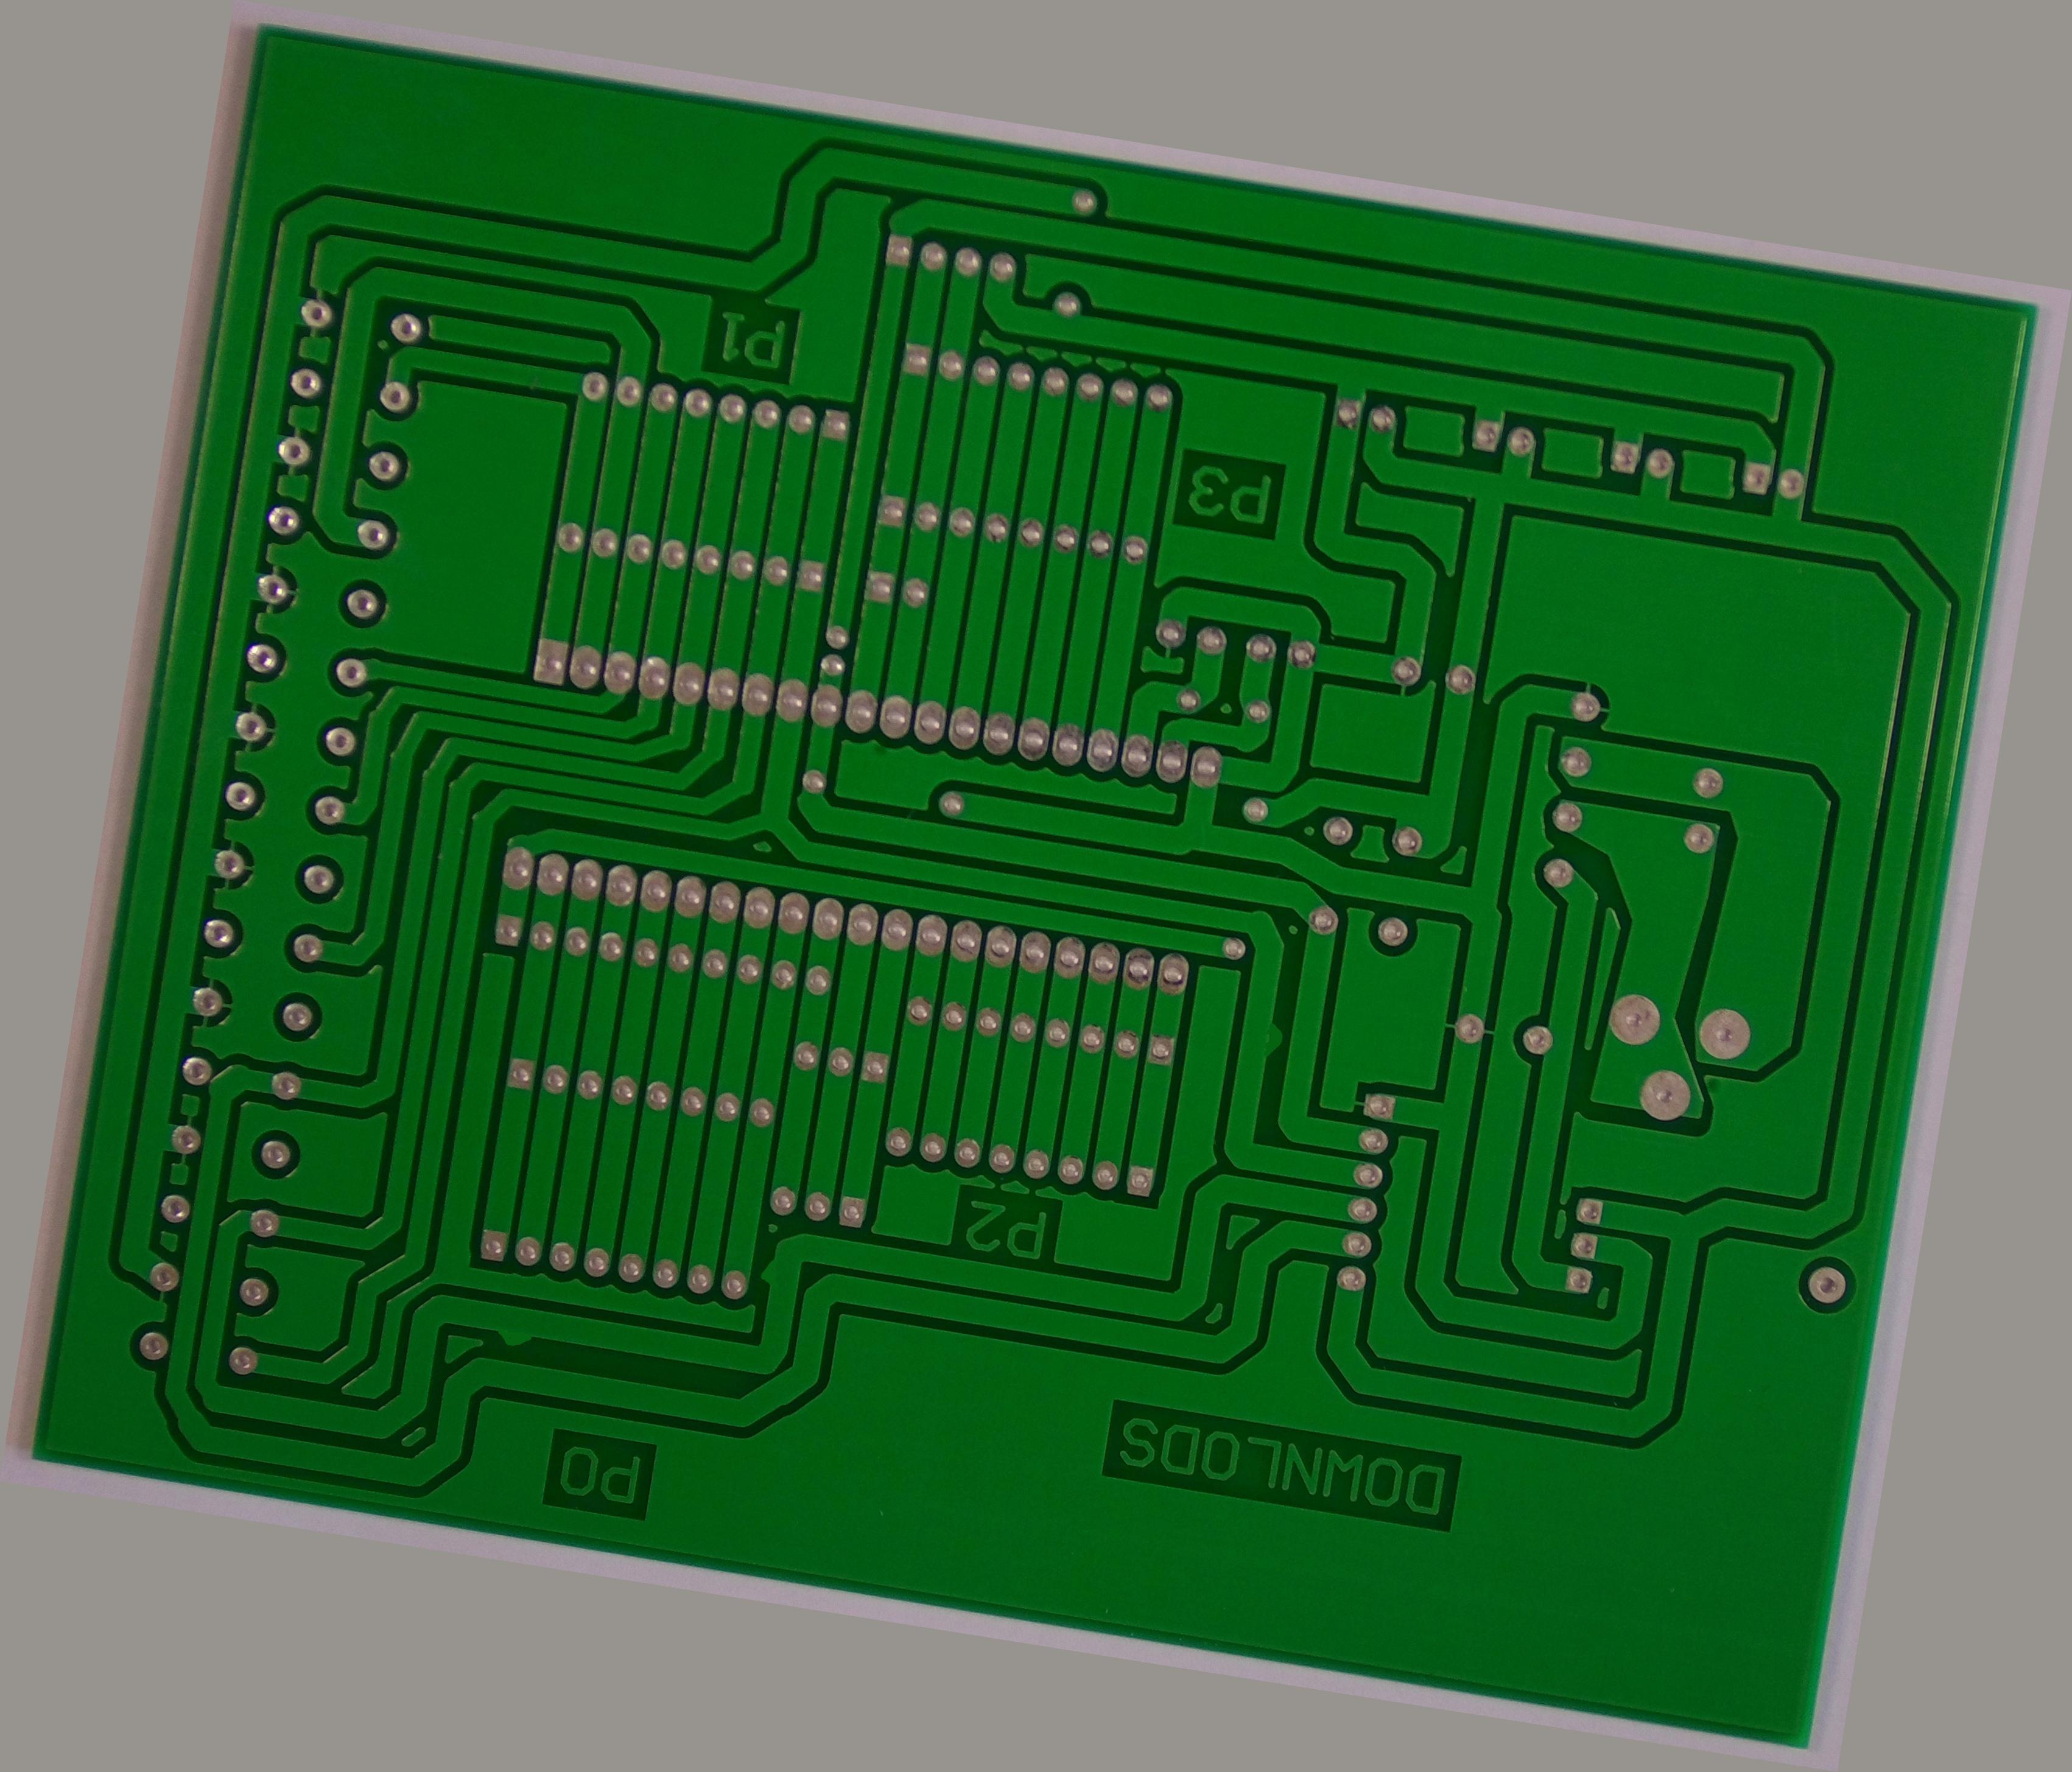spur: (512, 1487, 573, 1531), (1307, 984, 1344, 1057), (799, 1359, 834, 1412)
